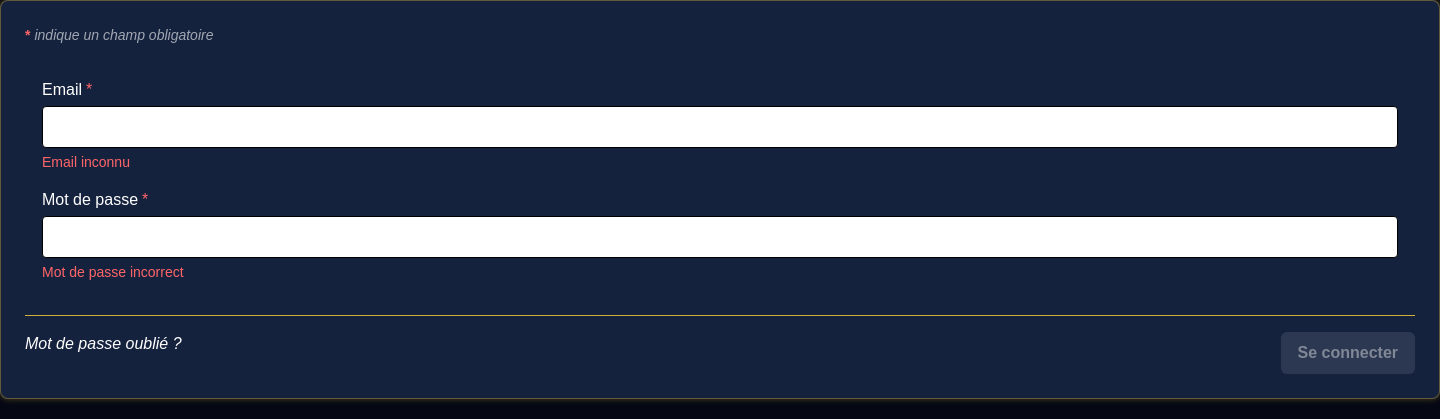
Scenario: LoginForm cas indépendant + cas erreur serveur › active le bouton quand le formulaire est valide
Type "thierry@example.com" into the field labelled "Email*" at (720, 127), box [42, 106, 1398, 148]
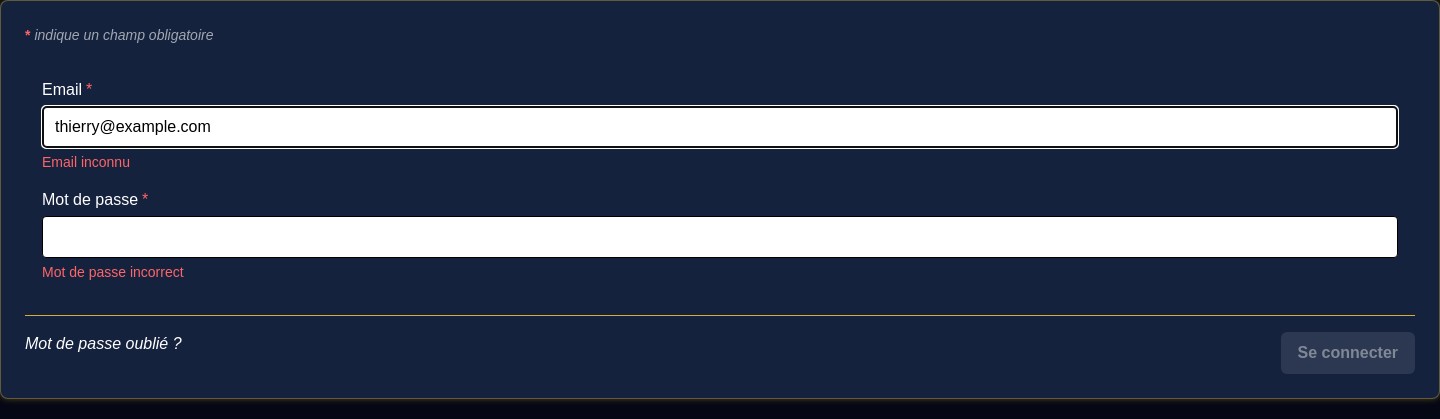
Type "Password123?" into the password field labelled "Mot de passe*" at (720, 237), box [42, 216, 1398, 258]
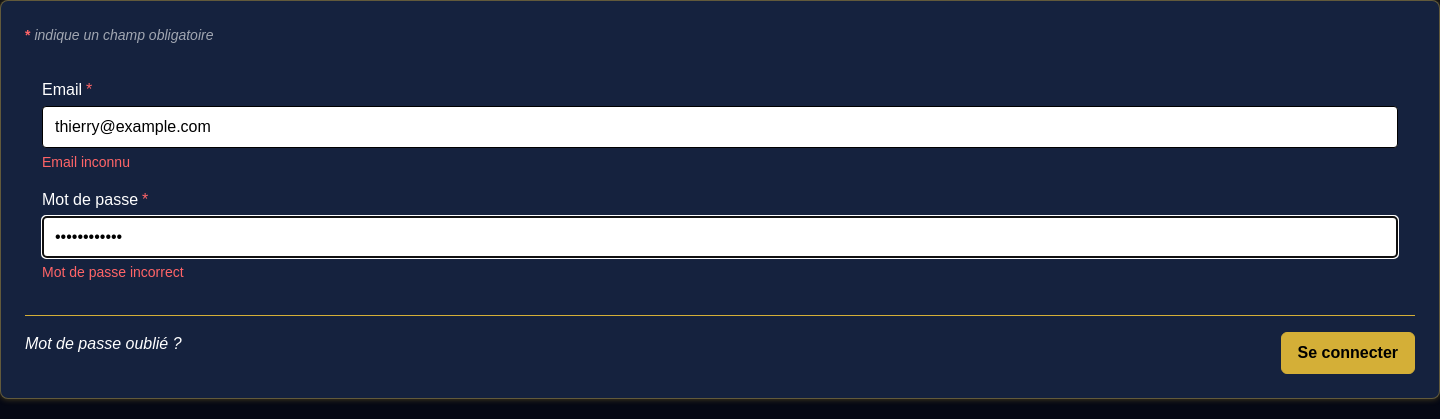
Now the button "Se connecter" is enabled, box [1280, 332, 1415, 374]
